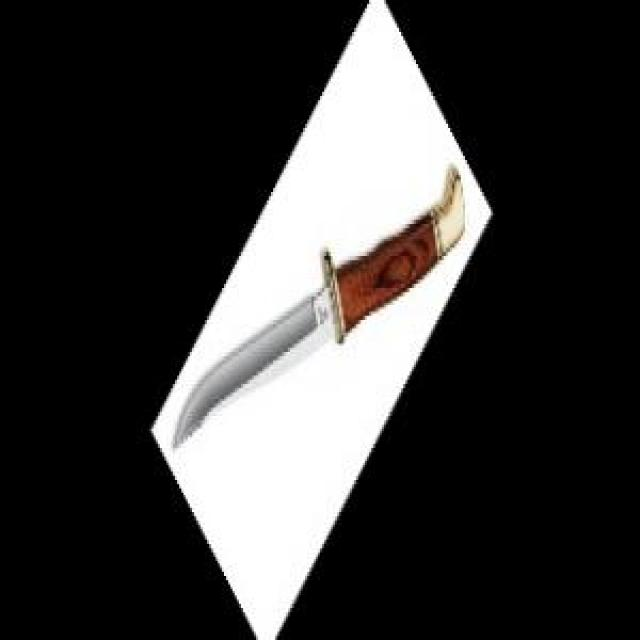knife: (173, 162, 466, 457)
